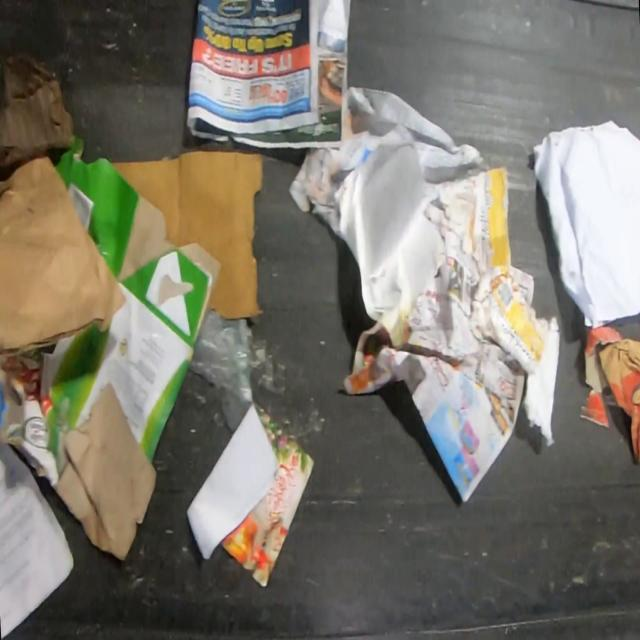cardboard: (37, 132, 222, 480), (110, 150, 264, 318), (53, 382, 158, 563), (579, 324, 624, 428)
soft_plastic: (187, 307, 254, 434)
